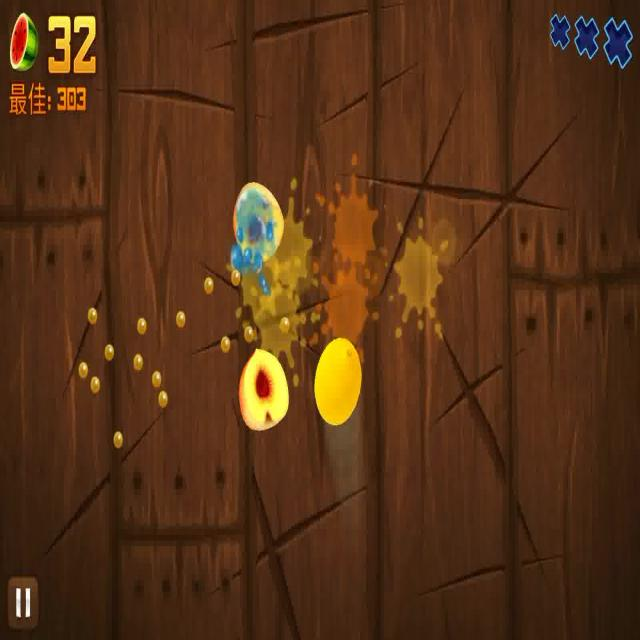fruit: (312, 336, 361, 422), (237, 351, 289, 432), (233, 177, 283, 260)
